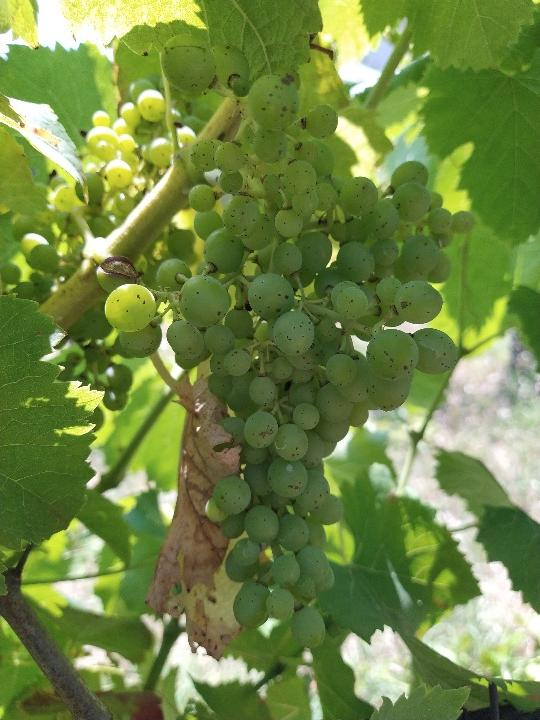grape: (96, 30, 475, 649)
